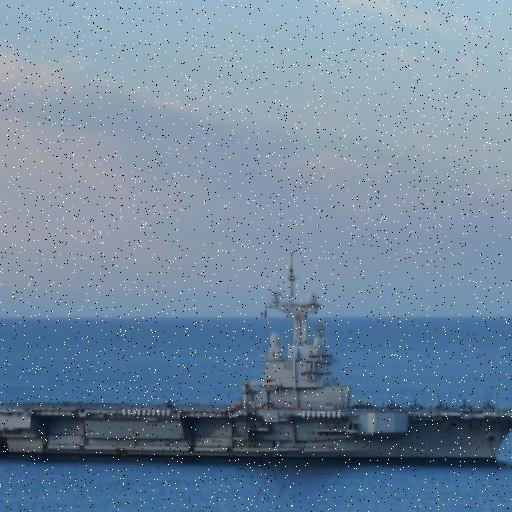Portanaves: (1, 247, 512, 472)
